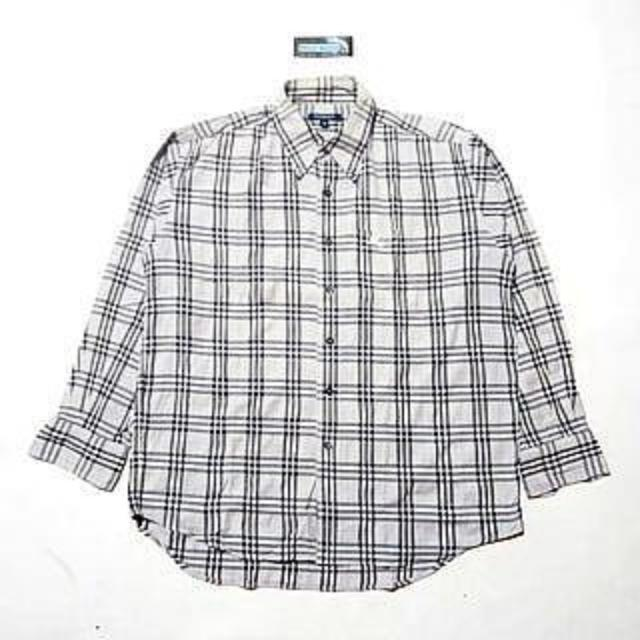SHIRT: (20, 78, 613, 602)
